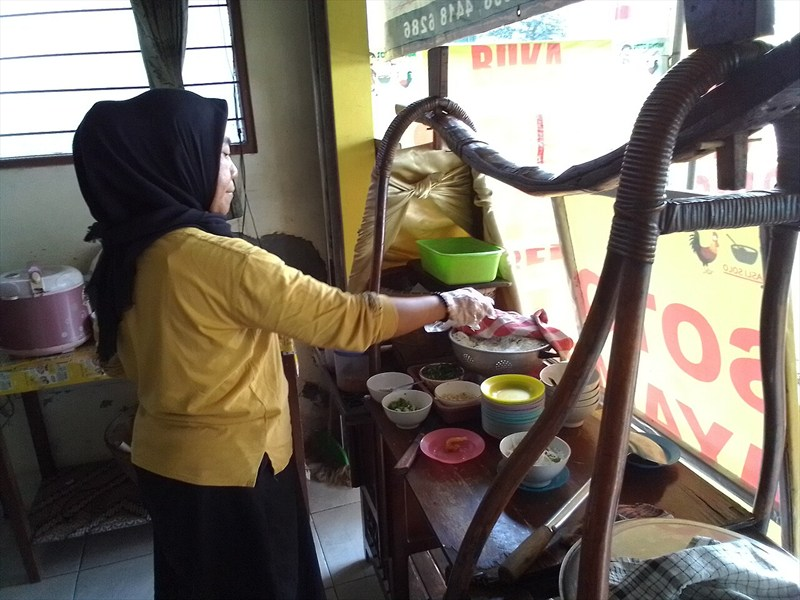Soto Ayam: (152, 19, 783, 496)
